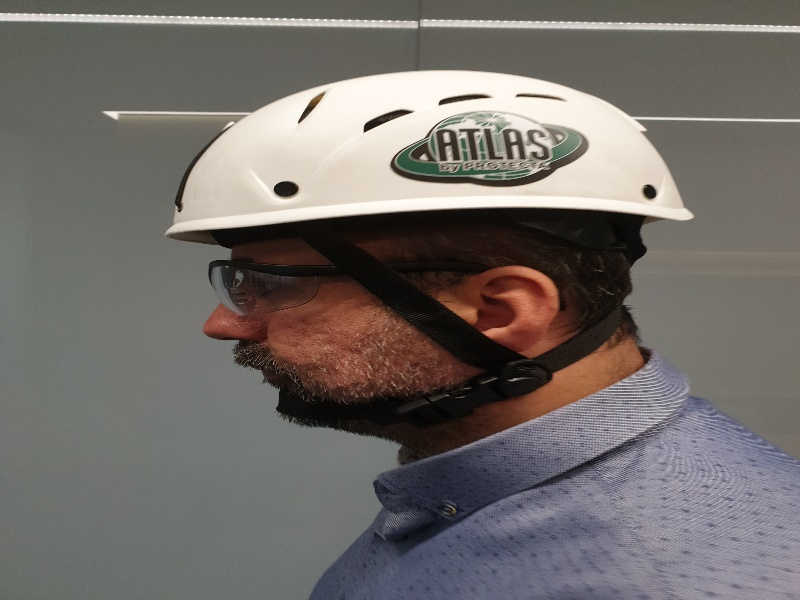Baret: (165, 67, 693, 241)
Gozluk: (204, 259, 483, 316)
